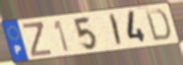1: (53, 19, 71, 53)
4: (126, 9, 150, 46)
5: (72, 15, 99, 52)
D: (143, 8, 172, 43)
I: (109, 12, 123, 48)
Z: (21, 21, 54, 58)
